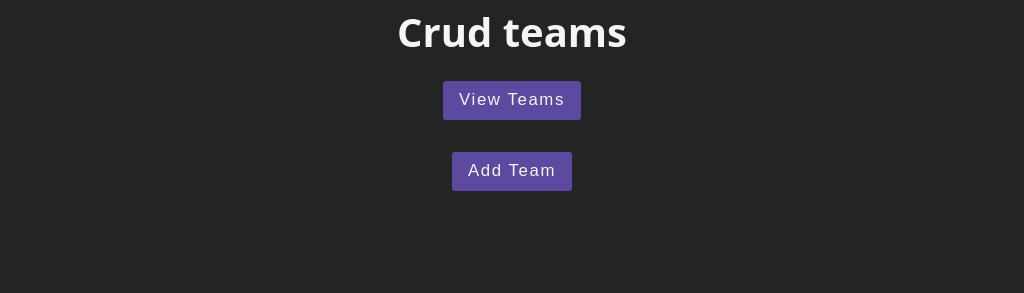
Crud teams e2e tests › Verify that the teams page items are showing
Click the button "View Teams".
click(512, 101)  # box 443,81 -> 581,120
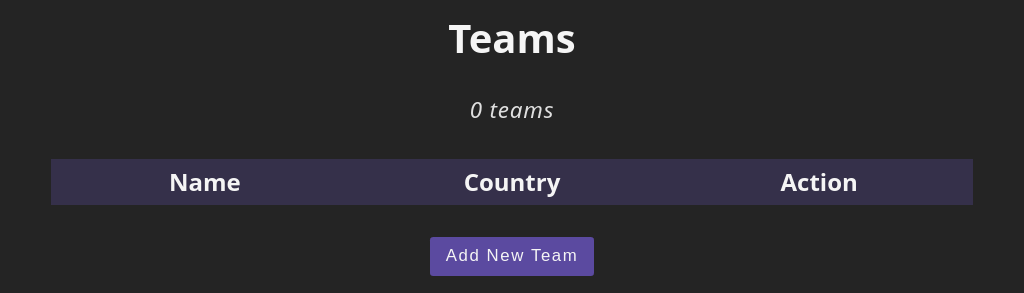
Result: the element with class "teams-section" is shown
Result: the element with class "teams-amount" is shown at 470,94 -> 554,125
Result: the table with class "table-teams" is shown at 51,159 -> 973,205
